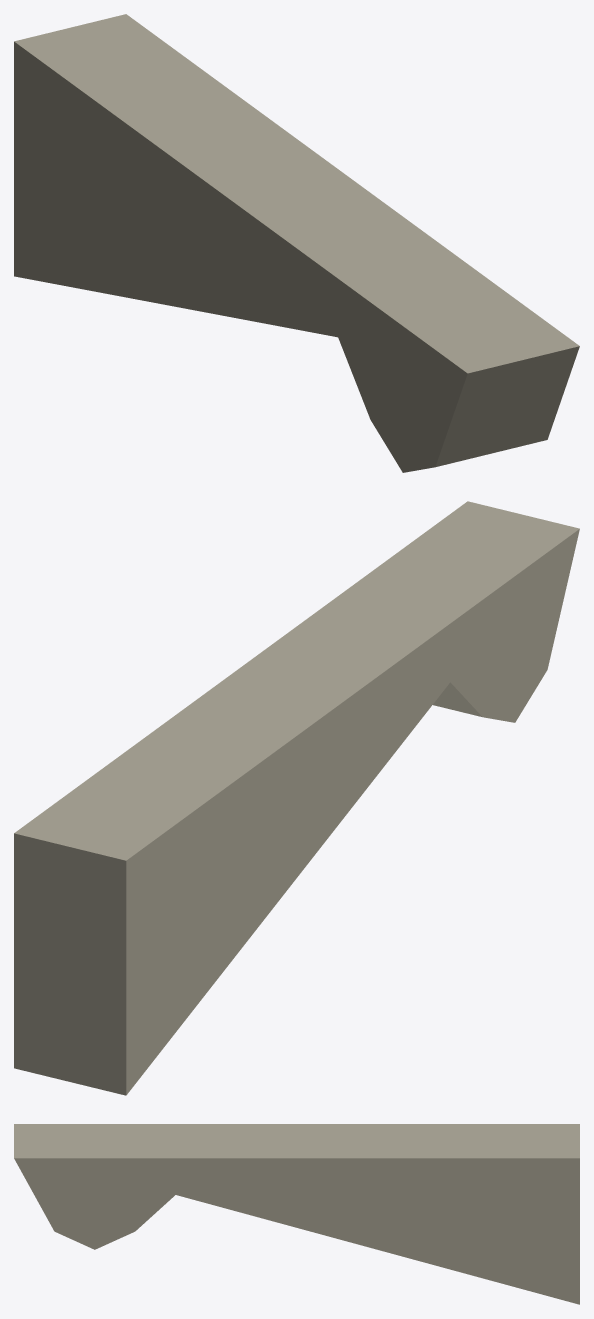
File: victorian_decorative_stone_1.fbx
The picture shows the model from 3 angles, top to bottom: view 1: azimuth 30°, elevation 25°; view 2: azimuth 150°, elevation 25°; view 3: azimuth 270°, elevation 25°; orthographic projection. The views are drawn at different scales.
Parts seen in each view (by area): view 1: Cube.249; view 2: Cube.249; view 3: Cube.249.
Part boxes in pixels (x1,y1,x2,y2): Cube.249: (14, 14, 579, 472); Cube.249: (14, 501, 579, 1095); Cube.249: (14, 1124, 579, 1304).
Size of the model in its own units: 20 by 40 by 140.
